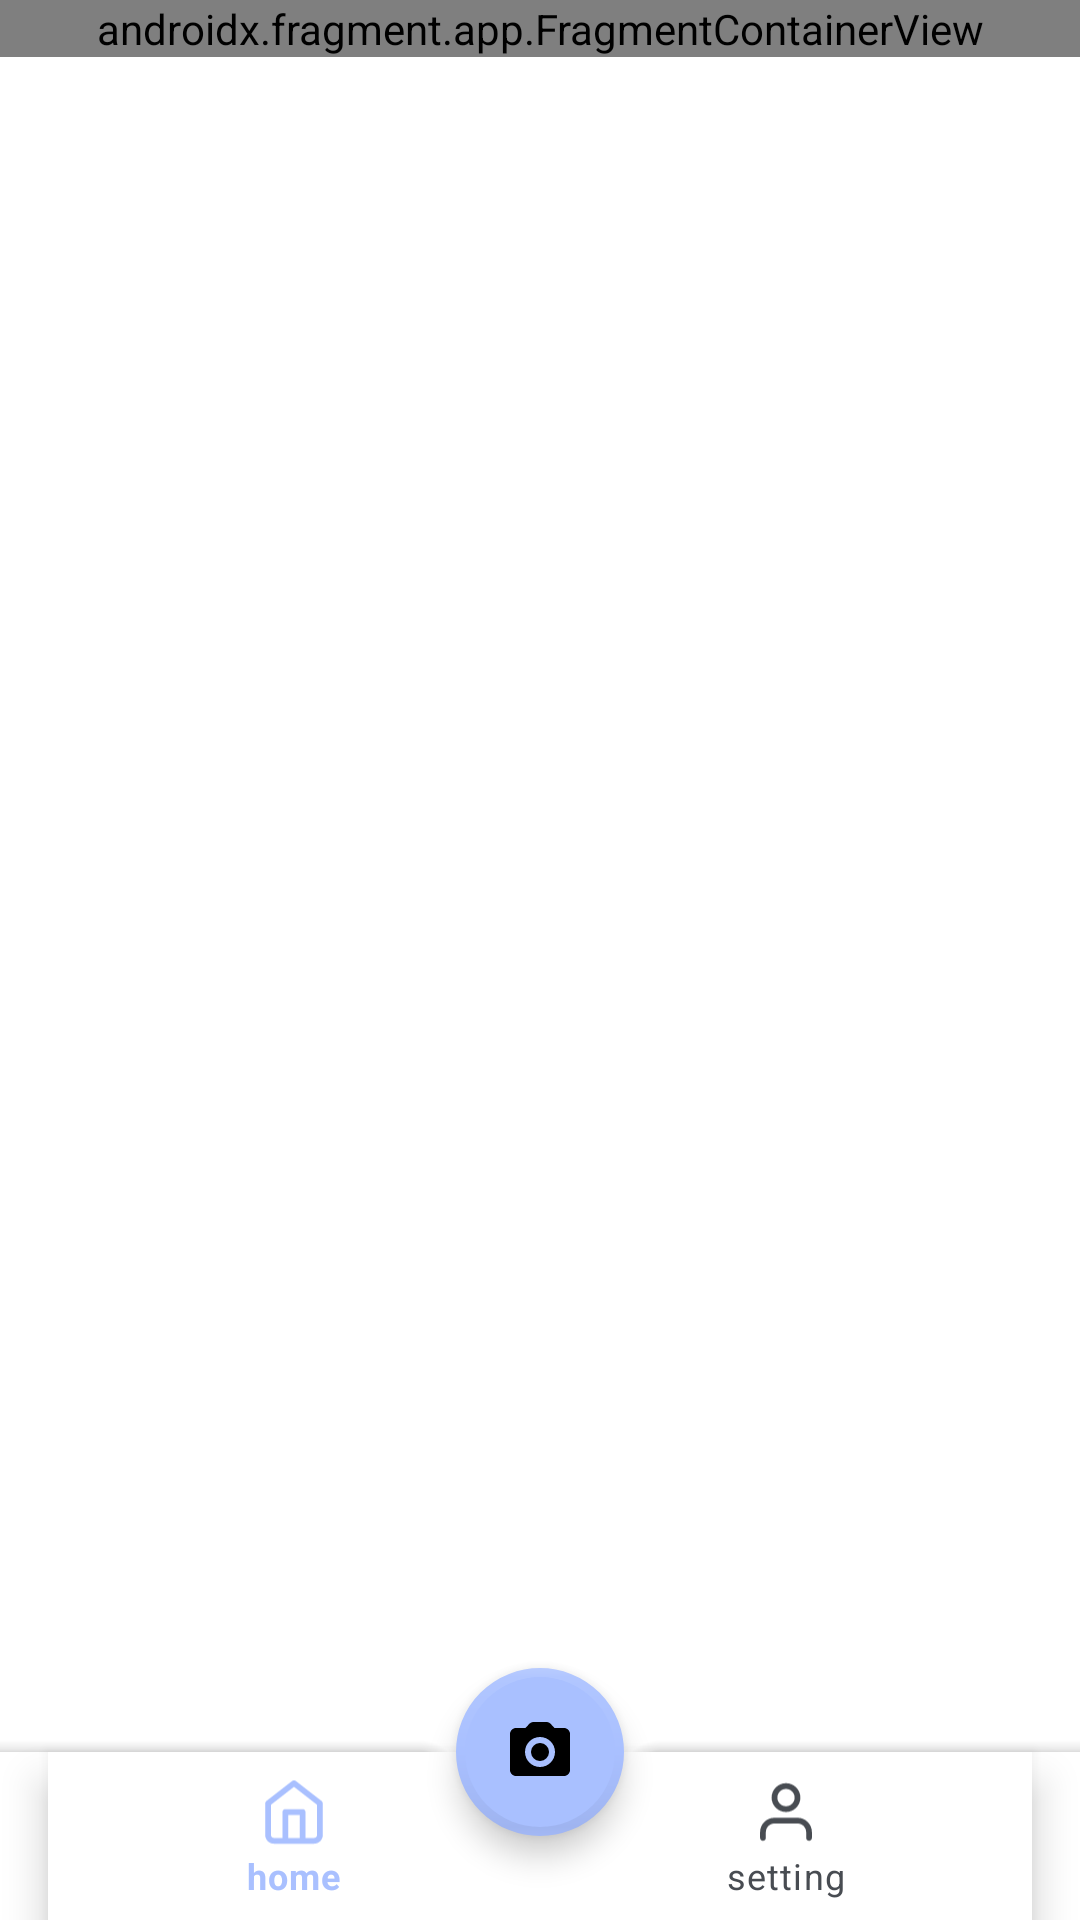

Screen size 1080px×1920px. Icon name, then its center in pixels as (x,y):
camera: (540,1752)
